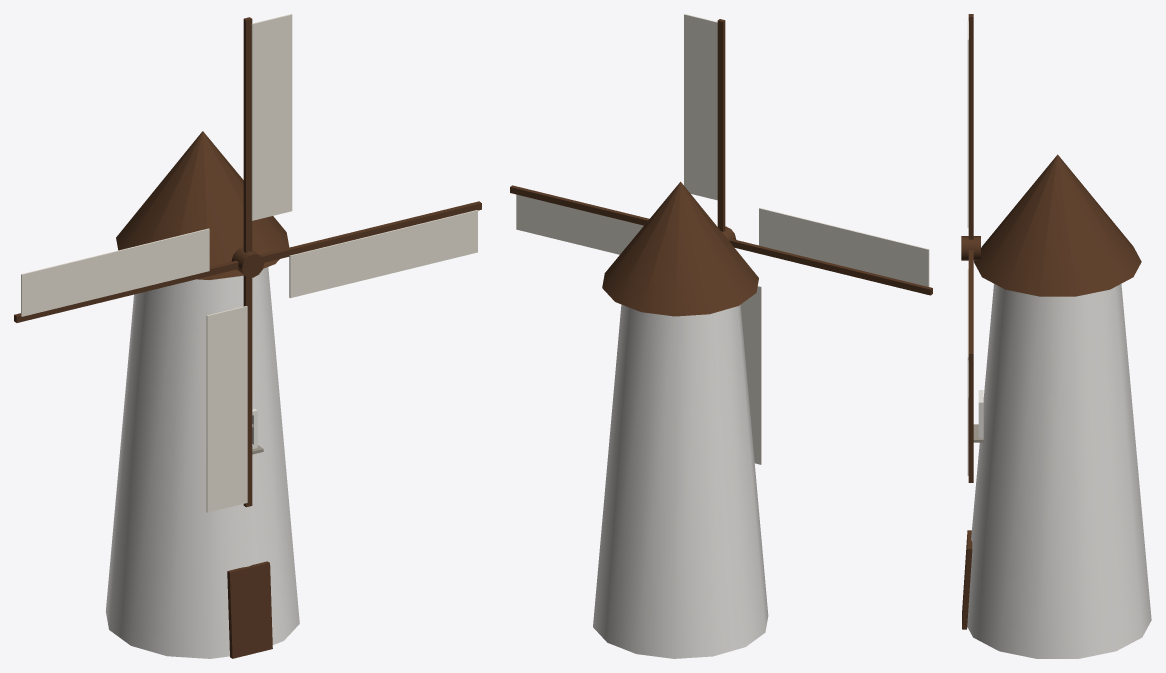
Rendered from windmill_01.glb.
The picture shows the model from 3 angles, left to right: view 1: azimuth 30°, elevation 25°; view 2: azimuth 150°, elevation 25°; view 3: azimuth 270°, elevation 25°; orthographic projection. The views are drawn at different scales.
Visible parts, largest first — view 1: windmill_01_plaster, blades_sail, windmill_01_wood, blades_wood; view 2: windmill_01_plaster, blades_sail, windmill_01_wood, blades_wood; view 3: windmill_01_plaster, windmill_01_wood, blades_wood, blades_sail.
Part boxes in pixels (x1,y1,x2,y2): windmill_01_plaster: (105,267,299,658); blades_sail: (21,14,477,512); windmill_01_wood: (116,131,289,658); blades_wood: (14,17,481,507); windmill_01_plaster: (593,304,768,658); blades_sail: (516,14,929,464); windmill_01_wood: (602,181,758,316); blades_wood: (510,19,932,295); windmill_01_plaster: (967,284,1151,658); windmill_01_wood: (962,154,1141,629); blades_wood: (961,14,980,482); blades_sail: (967,21,968,475).
Bounding box in the file's own units: 10.4 × 13.5 × 3.85.
